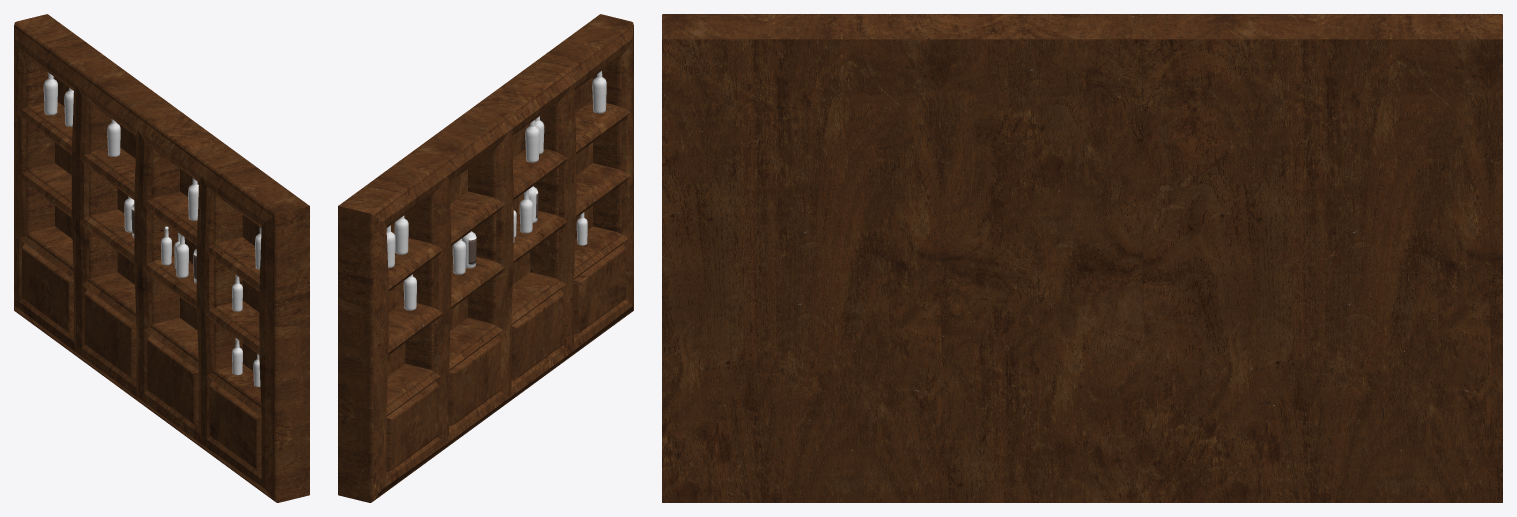
File: Bar01_Estanteria.fbx
The picture shows the model from 3 angles, left to right: view 1: azimuth 30°, elevation 25°; view 2: azimuth 150°, elevation 25°; view 3: azimuth 270°, elevation 25°; orthographic projection. The views are drawn at different scales.
Visible parts, largest first — view 1: BirraStand, Cylinder.007, Cylinder.006, Cylinder.002, Cylinder, Cylinder.004, Cylinder.010, Cylinder.012, Cylinder.008; view 2: BirraStand, Cylinder, Cylinder.011, Cylinder.008, Cylinder.006, Cylinder.003, Cylinder.009, Cylinder.016; view 3: BirraStand.
Boxes of the visible parts, x1,y1,x2,y2 form: BirraStand: [14, 14, 309, 502]; Cylinder.007: [43, 72, 57, 115]; Cylinder.006: [175, 234, 188, 277]; Cylinder.002: [107, 119, 120, 156]; Cylinder: [188, 178, 198, 220]; Cylinder.004: [161, 226, 171, 265]; Cylinder.010: [232, 275, 242, 311]; Cylinder.012: [232, 338, 242, 375]; Cylinder.008: [64, 87, 73, 126]; BirraStand: [338, 14, 633, 502]; Cylinder: [525, 120, 539, 162]; Cylinder.011: [592, 71, 606, 113]; Cylinder.008: [394, 215, 408, 254]; Cylinder.006: [519, 189, 532, 233]; Cylinder.003: [452, 238, 465, 274]; Cylinder.009: [403, 274, 416, 310]; Cylinder.016: [462, 231, 476, 268]; BirraStand: [662, 14, 1502, 502].
Size of the model in its own units: 33.39 by 230 by 378.
